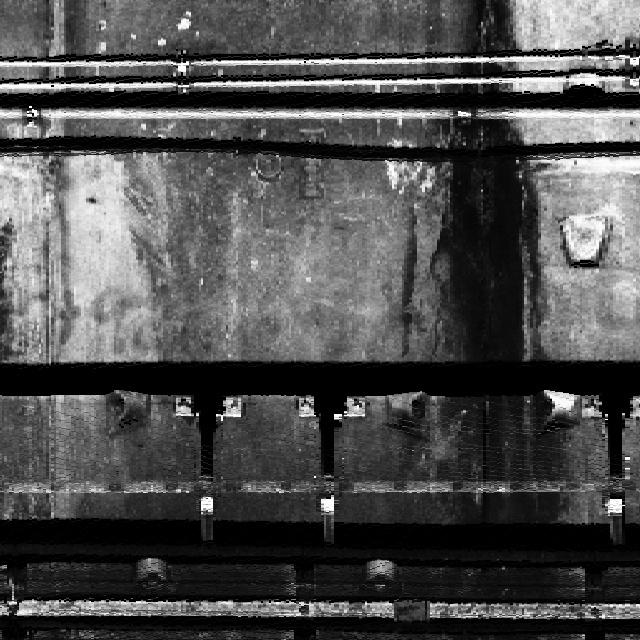leakage: (435, 1, 561, 525)
